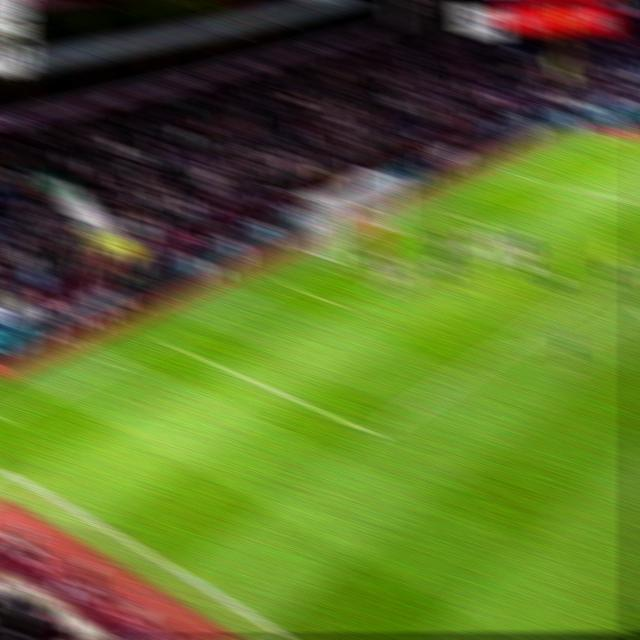bigarea_bottom_inner: (358, 418, 390, 448)
bigarea_bottom_outter: (150, 330, 178, 352)
bigarea_top_outter: (503, 166, 528, 184)
bottom_arc_area_intersection: (491, 333, 520, 358)
corner: (583, 128, 611, 144)
smallarea_bottom_inner: (330, 292, 359, 317)
smallarea_bottom_outter: (272, 271, 301, 295)
smallarea_top_inner: (486, 216, 511, 235)
smallarea_top_outter: (428, 200, 453, 221)
top_arc_area_intersection: (614, 256, 640, 279)
